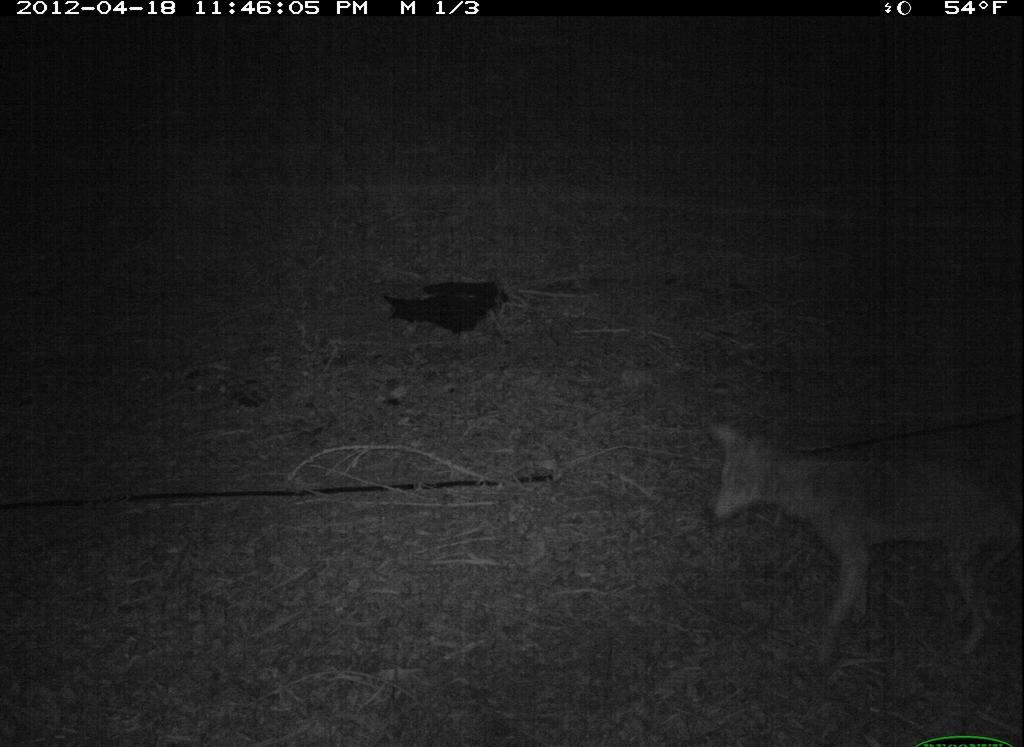coyote: (701, 419, 1018, 669)
